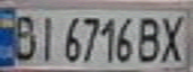1: (97, 14, 118, 63)
6: (60, 12, 84, 63), (115, 14, 139, 63)
7: (78, 12, 100, 63)
B: (3, 9, 39, 63), (133, 12, 166, 64)
I: (33, 11, 60, 63)
X: (157, 11, 190, 63)
